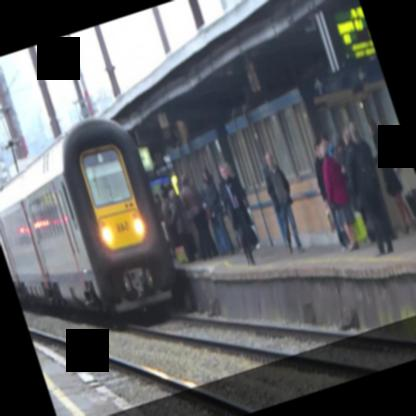backpack: (381, 136, 401, 168), (381, 134, 395, 168)
handbag: (352, 210, 369, 246), (327, 208, 336, 233)
suitcase: (396, 170, 416, 220), (187, 232, 198, 253)
